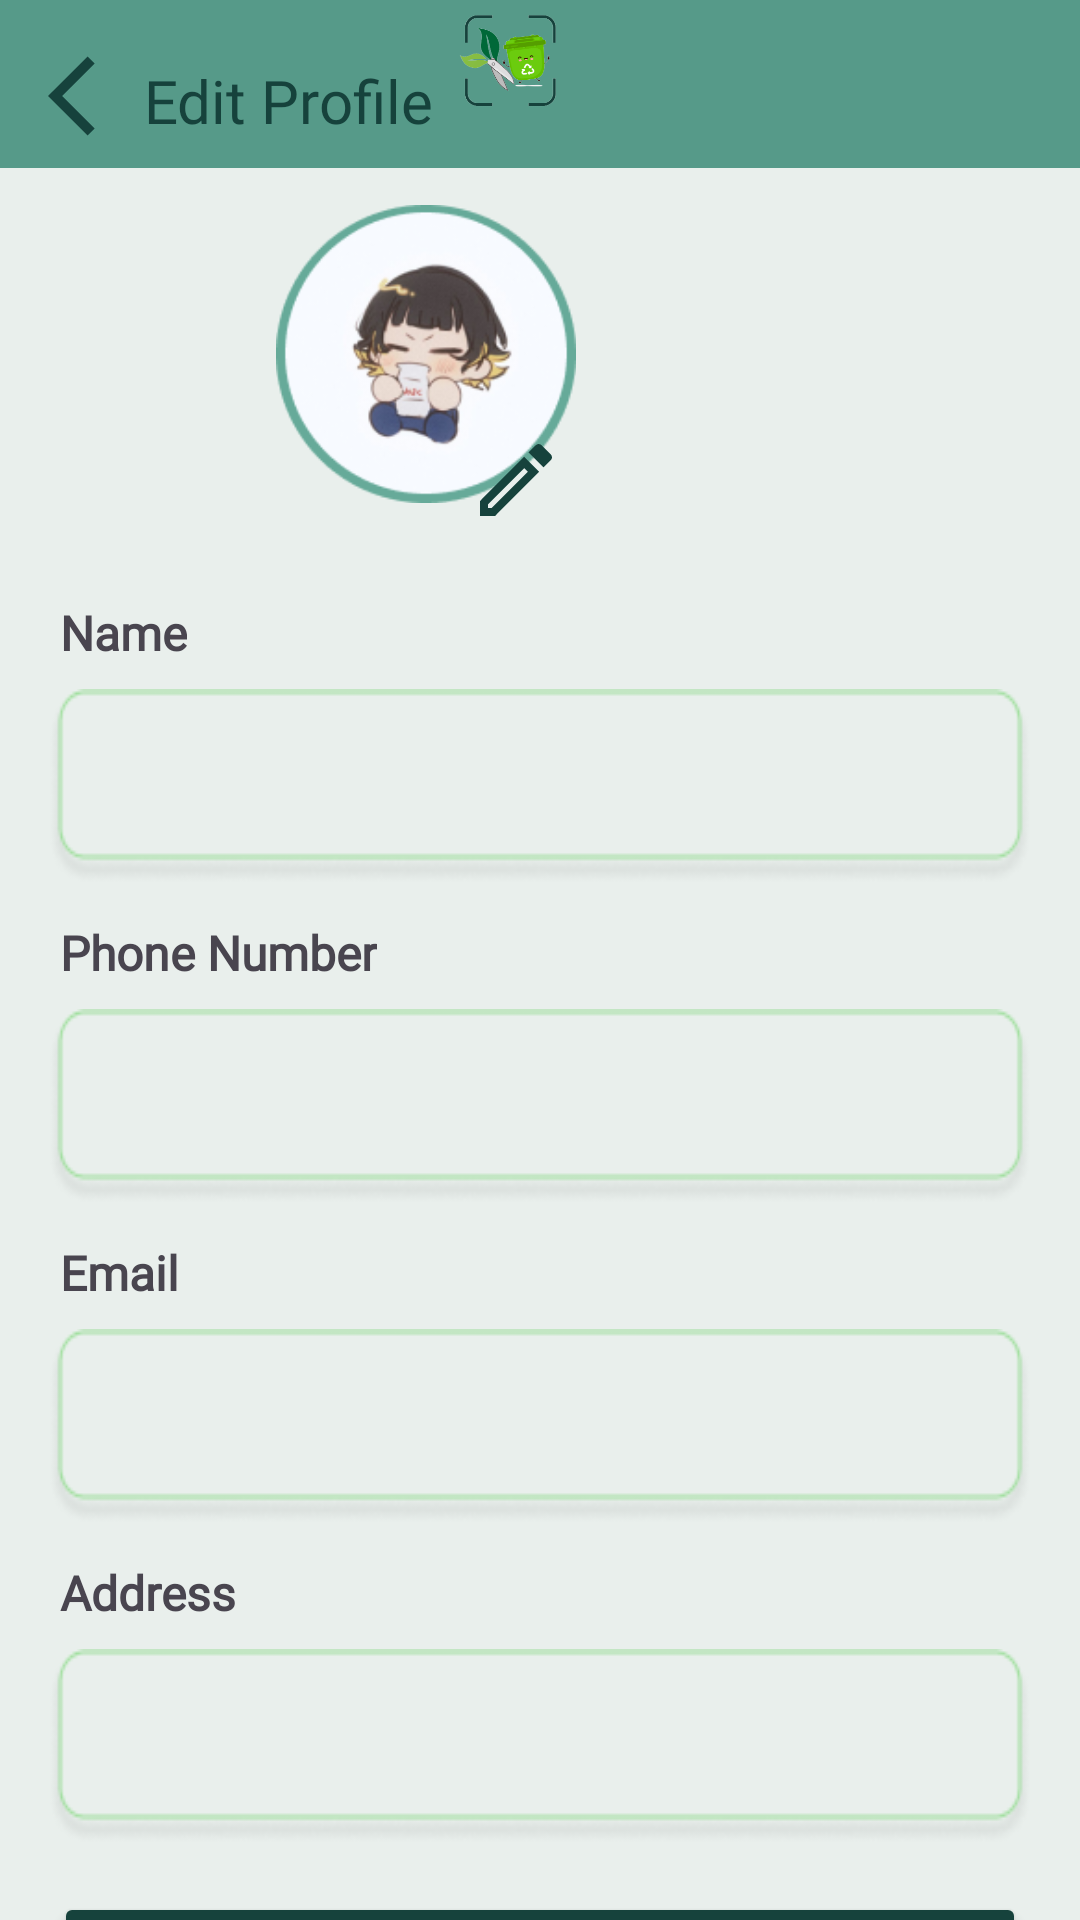

Point at icon controls on the screen. Image size 1080px×1920px, points as [x,y].
Back: [71,96]
Edit Profile Picture: [511,474]
